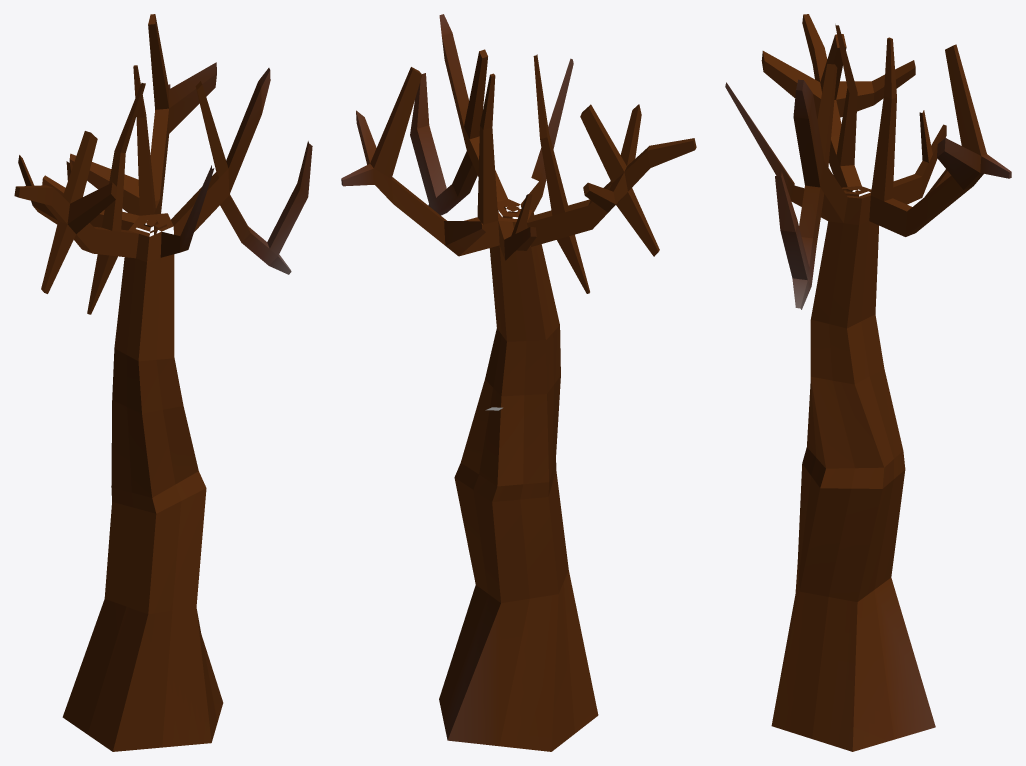
Rendered from Dead_4.glb.
3 views of the same model, side by side, from view 1: azimuth 30°, elevation 25°; view 2: azimuth 150°, elevation 25°; view 3: azimuth 270°, elevation 25° (orthographic). The views are drawn at different scales.
Parts seen in each view (by area): view 1: Dead_4; view 2: Dead_4; view 3: Dead_4.
Boxes of the visible parts, x1=… form: Dead_4: x1=14, y1=14, x2=312, y2=751; Dead_4: x1=341, y1=14, x2=696, y2=751; Dead_4: x1=725, y1=14, x2=1011, y2=751.
Bounding box in the file's own units: 1.89 × 4.17 × 1.56.
